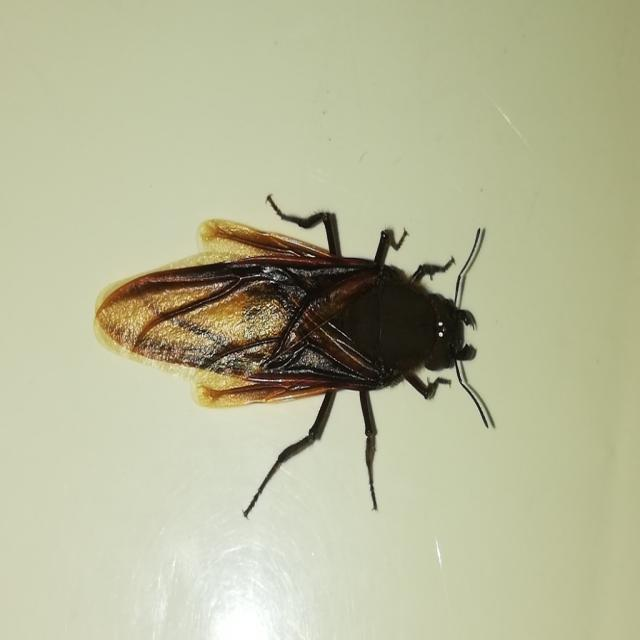Alive-Female-Alate: (91, 194, 495, 522)
